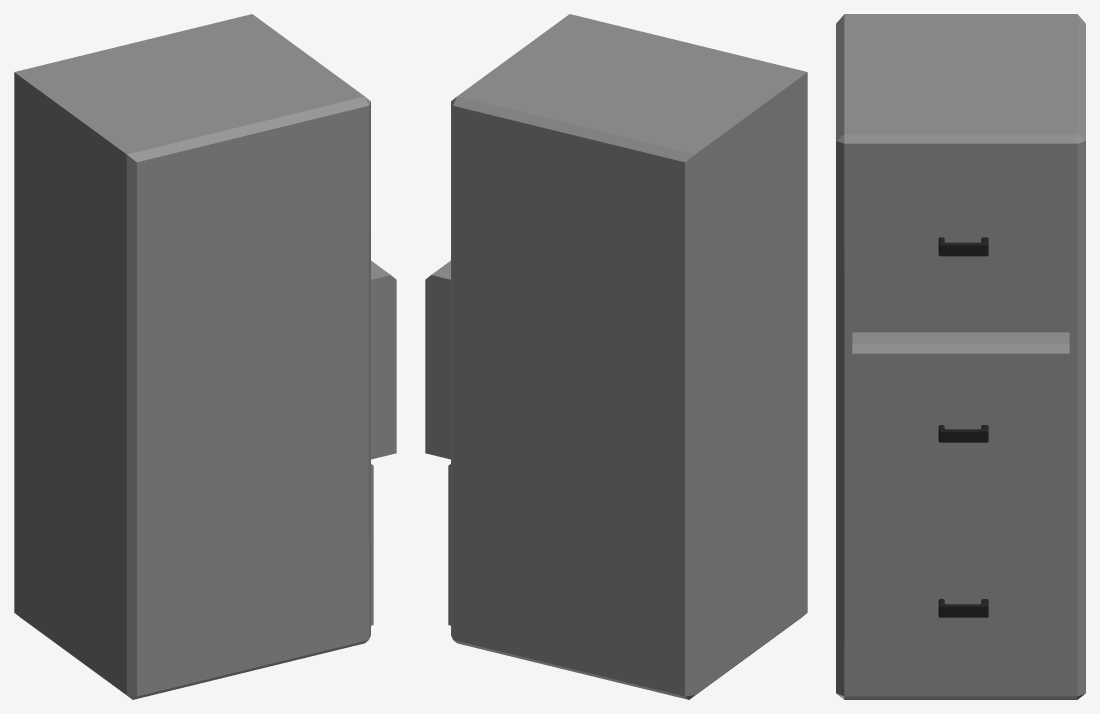
The model's file is Obj_FilingCabinet.fbx.
3 views of the same model, side by side, from view 1: azimuth 30°, elevation 25°; view 2: azimuth 150°, elevation 25°; view 3: azimuth 270°, elevation 25° (orthographic). The views are drawn at different scales.
Visible parts, largest first — view 1: Obj_FilingCabinet1; view 2: Obj_FilingCabinet1; view 3: Obj_FilingCabinet1.
Boxes of the visible parts, x1,y1,x2,y2 form: Obj_FilingCabinet1: (14, 14, 396, 699); Obj_FilingCabinet1: (425, 14, 807, 699); Obj_FilingCabinet1: (836, 14, 1085, 699).
Bounding box in the file's own units: 1.36 × 2.5 × 1.
